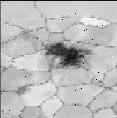good_void: (43, 40, 90, 71), (16, 86, 26, 94)
